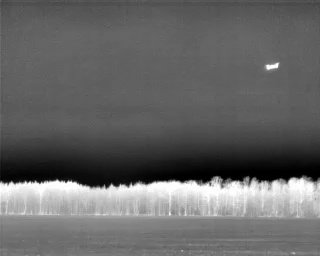DRONE: (262, 58, 284, 75)
